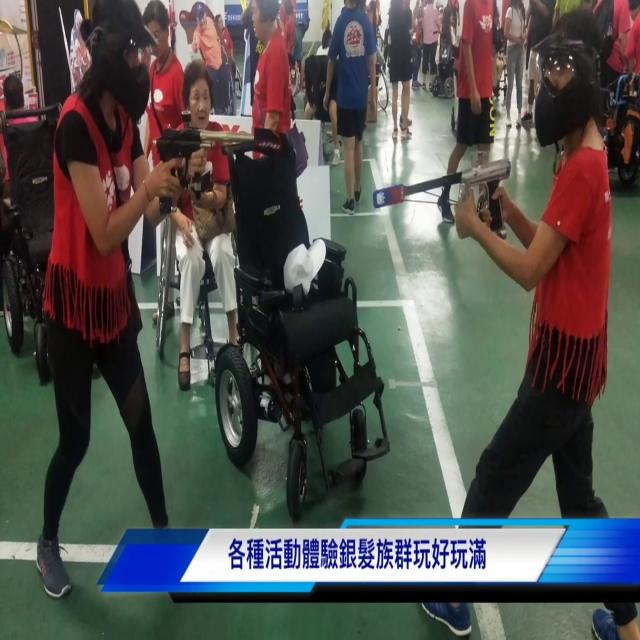wheelchairs: (214, 110, 394, 528), (148, 109, 288, 399)
